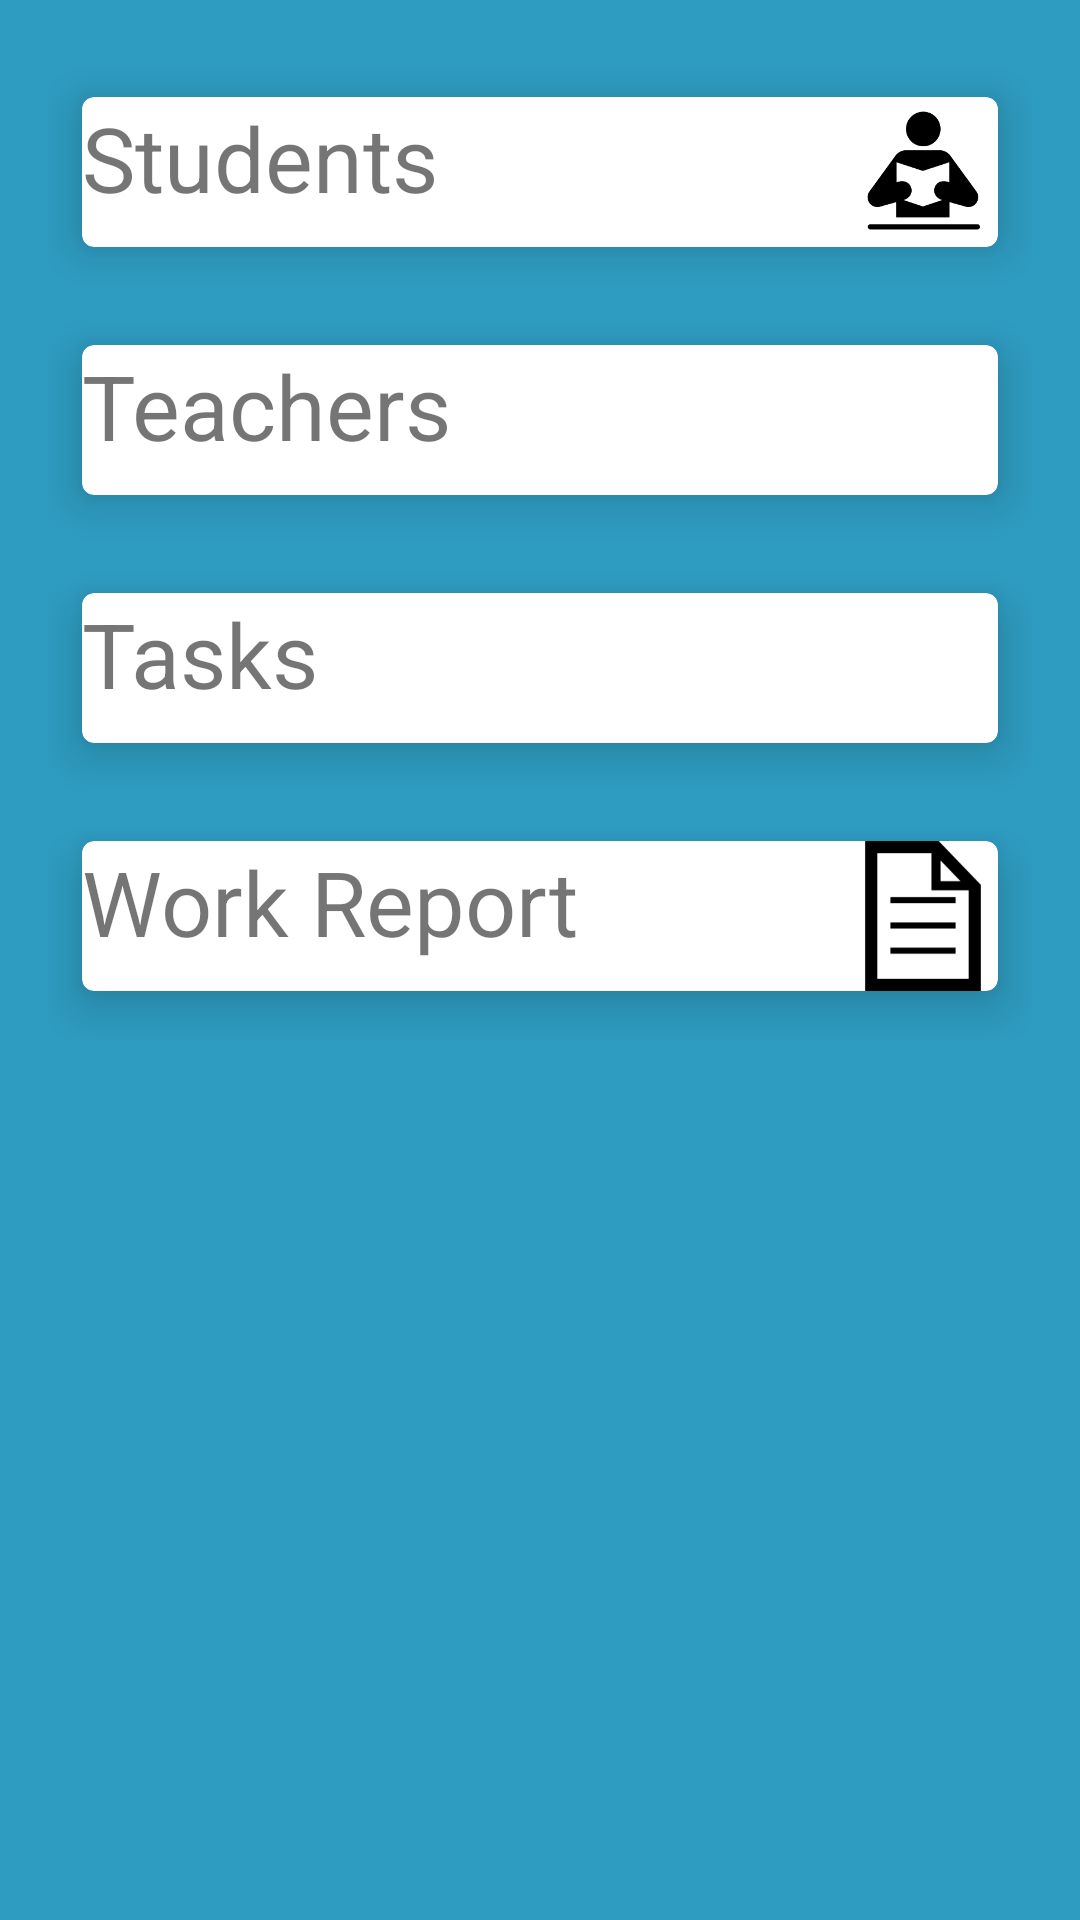

Named icons in this screenshot (1080 x 1920) and their centers, [x,y]:
reporticon: [923,916]
studenticon: [923,172]
